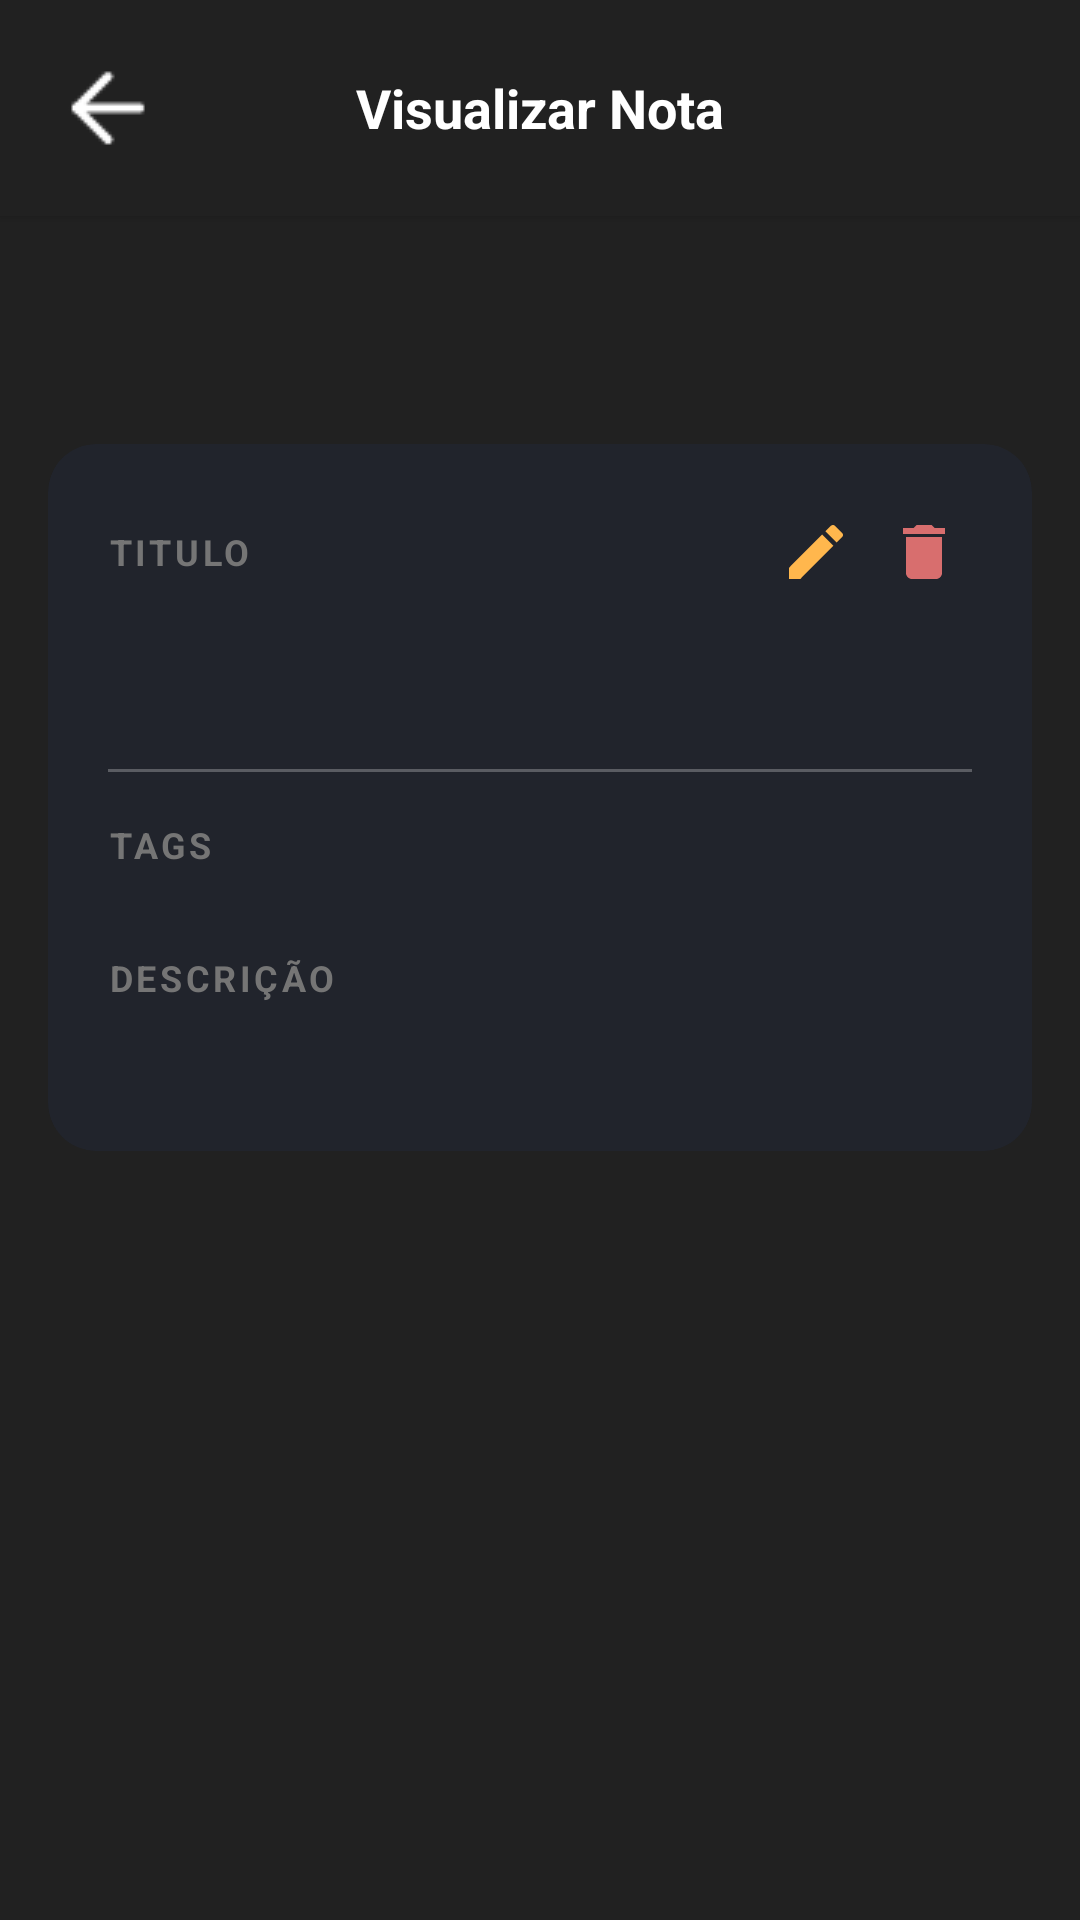

Screen size 1080 x 1920. Icon name, then its box in pixels as (x1, y1, x2, y2):
Editar nota: (789, 525, 843, 579)
Excluir nota: (903, 525, 945, 579)
Voltar: (71, 71, 145, 145)
